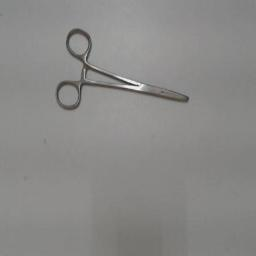Mayo Needle Holder: (52, 22, 192, 116)
